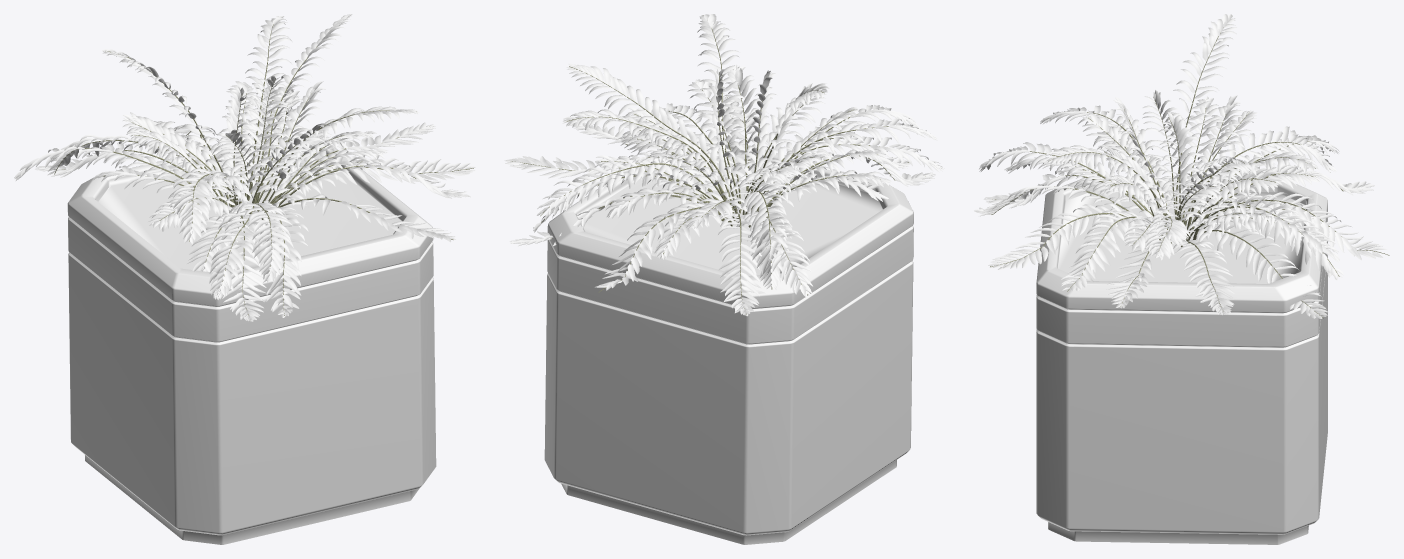
The model's file is su2PlanterBox02 (2).Shape.fbx.
3 renders of one model, left to right at view 1: azimuth 30°, elevation 25°; view 2: azimuth 150°, elevation 25°; view 3: azimuth 270°, elevation 25°, orthographic. The views are drawn at different scales.
Visible parts, largest first — view 1: su2PlanterBox02 (2).Shape, su2Fern01 (2).Shape; view 2: su2PlanterBox02 (2).Shape, su2Fern01 (2).Shape; view 3: su2PlanterBox02 (2).Shape, su2Fern01 (2).Shape.
Boxes of the visible parts, x1,y1,x2,y2 form: su2PlanterBox02 (2).Shape: [67, 135, 436, 544]; su2Fern01 (2).Shape: [14, 14, 475, 321]; su2PlanterBox02 (2).Shape: [544, 136, 913, 544]; su2Fern01 (2).Shape: [504, 14, 944, 316]; su2PlanterBox02 (2).Shape: [1036, 178, 1327, 544]; su2Fern01 (2).Shape: [973, 14, 1389, 318].
Size of the model in its own units: 221 by 252 by 227.
